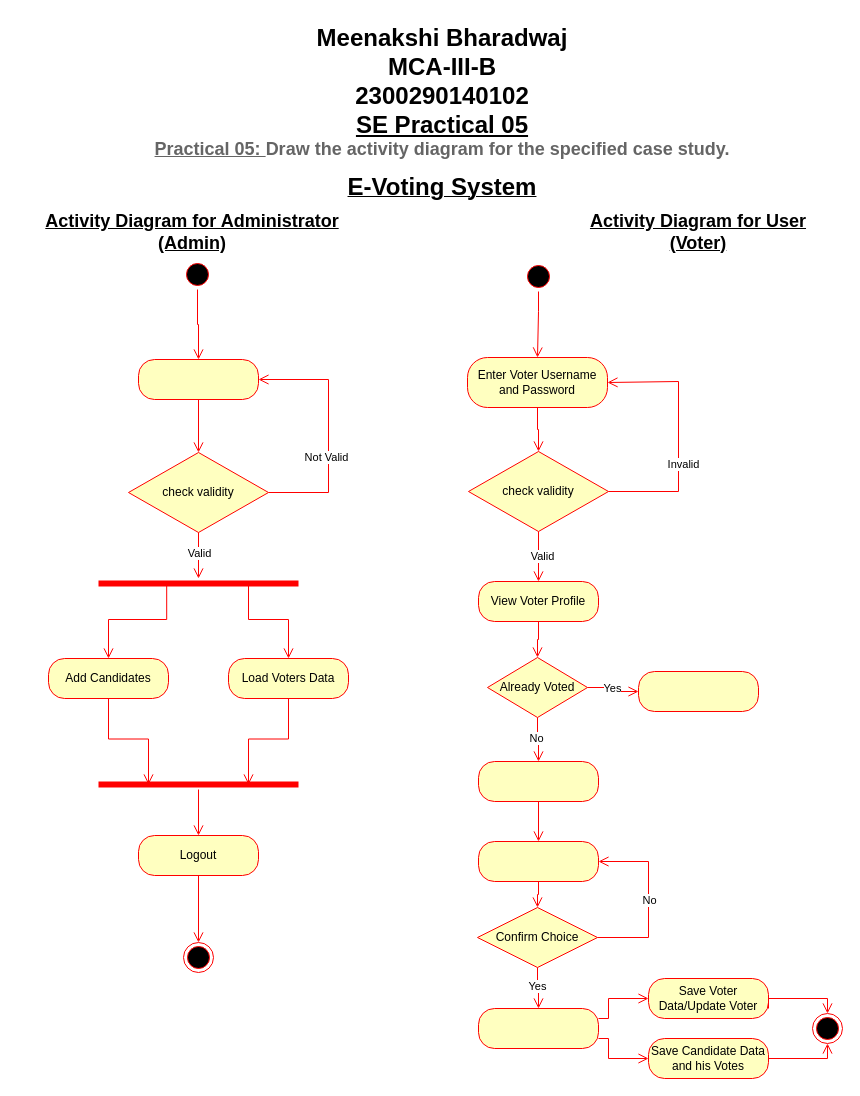
The diagram is 860 pixels wide and 1096 high, and some of its shapes have lost their labels. Here are the shapes that lost their labels. From the top down, the centre of each, then its label:
At point (198, 379): "Authenticate Admin User and Password".
At point (698, 691): "Inform Voter Cannot Vote".
At point (538, 781): "Show List of Candidates".
At point (538, 861): "Select Candidate".
At point (538, 1028): "Vote Casted".
